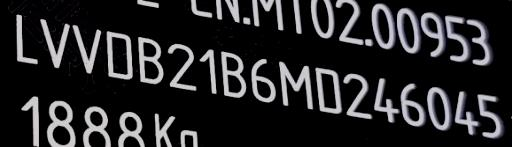letter: (277, 58, 315, 111), (166, 40, 198, 93), (38, 17, 70, 69), (72, 22, 102, 77), (313, 64, 343, 117), (104, 28, 134, 81), (342, 72, 374, 121), (135, 35, 165, 86), (218, 49, 248, 100), (398, 80, 428, 129), (452, 86, 480, 138), (14, 11, 40, 66), (424, 85, 454, 132), (476, 92, 506, 138), (372, 76, 400, 125), (249, 56, 277, 105), (197, 47, 219, 94)
